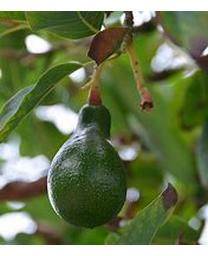avocado: (45, 101, 129, 231)
